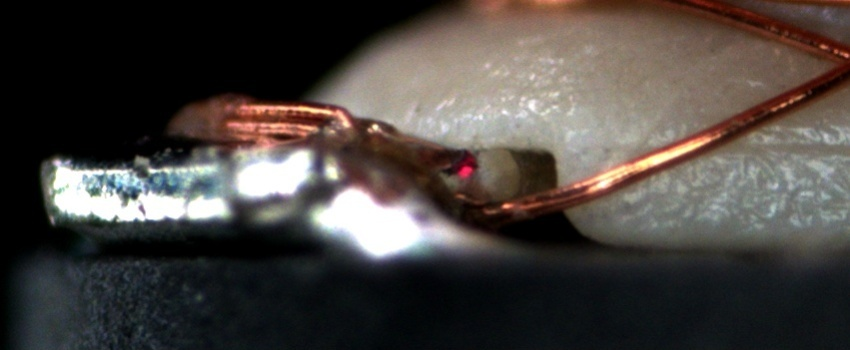CL: (806, 29, 850, 92)
DL: (626, 116, 849, 174)
TE: (178, 96, 354, 149)
